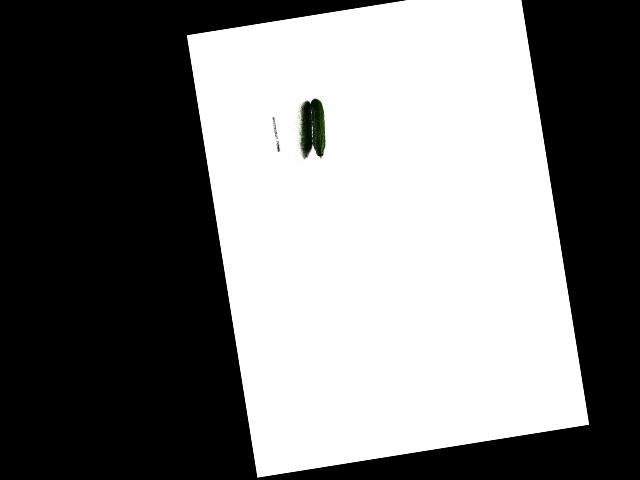cucumber: (305, 98, 330, 159)
